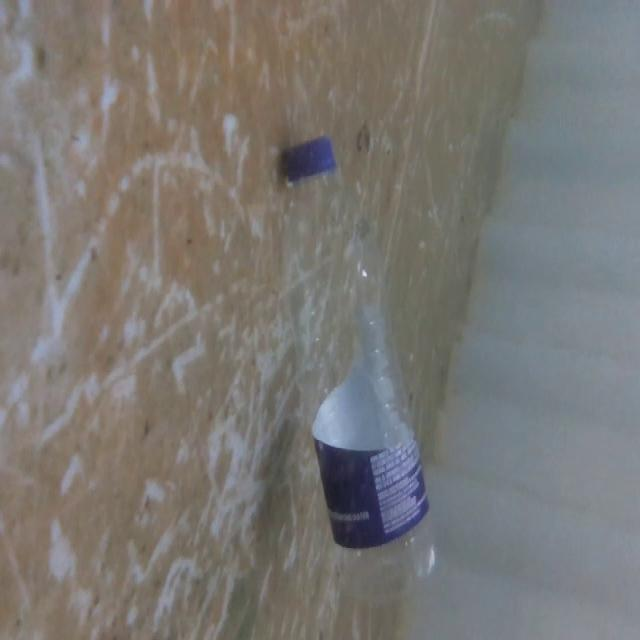plastic bottle: (270, 134, 441, 603)
